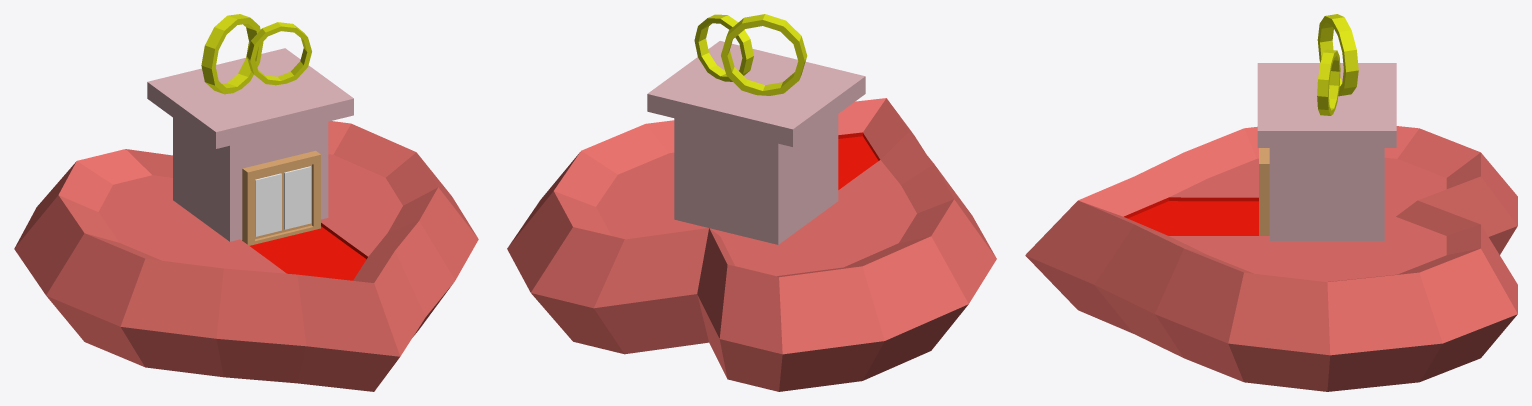
Rendered from Ostrov_merge.fbx.
3 renders of one model, left to right at view 1: azimuth 30°, elevation 25°; view 2: azimuth 150°, elevation 25°; view 3: azimuth 270°, elevation 25°, orthographic. The views are drawn at different scales.
Parts seen in each view (by area): view 1: Cube, Куб, Куб.001, Окружность; view 2: Cube, Куб, Окружность; view 3: Cube, Куб, Окружность, Куб.001.
Part boxes in pixels (x1,y1,x2,y2): Cube: (14,121,478,391); Куб: (147,48,353,241); Куб.001: (242,150,320,245); Окружность: (201,14,311,94); Cube: (507,98,996,391); Куб: (647,41,865,244); Окружность: (694,14,807,95); Cube: (1025,126,1517,391); Куб: (1257,63,1396,240); Окружность: (1317,14,1358,115); Куб.001: (1259,148,1269,235).
Bounding box in the file's own units: 372 × 248 × 387.
